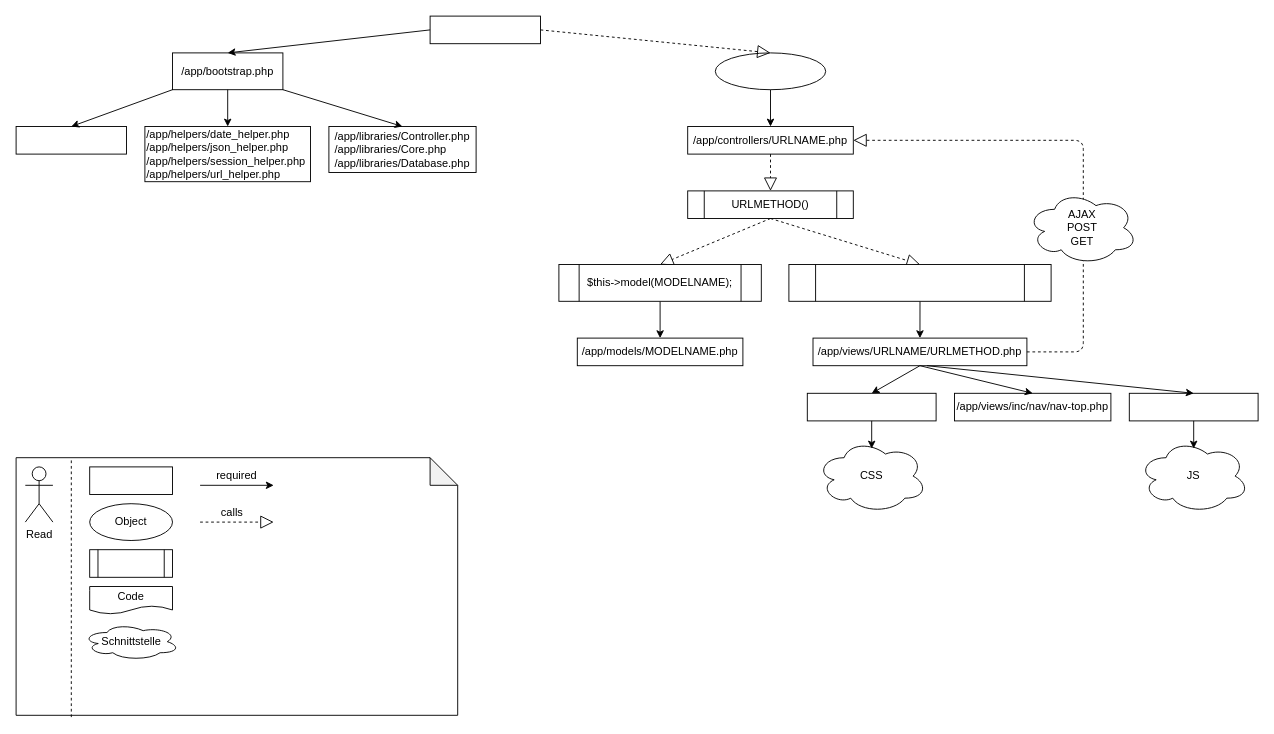
This 1274x734 diagram has some shape labels left out. The centre of each missing label's shape, as x and y in pixels:
$init = new Core();: point (770, 71)
$this->view(URLNAME/URLMETHOD);: point (919, 282)
/app/config/config.php: point (70, 140)
/app/views/inc/footer.php: point (1193, 406)
/app/views/inc/header.php: point (871, 406)
/public/index.php: point (484, 29)
File name: point (130, 480)
Method: point (130, 563)
